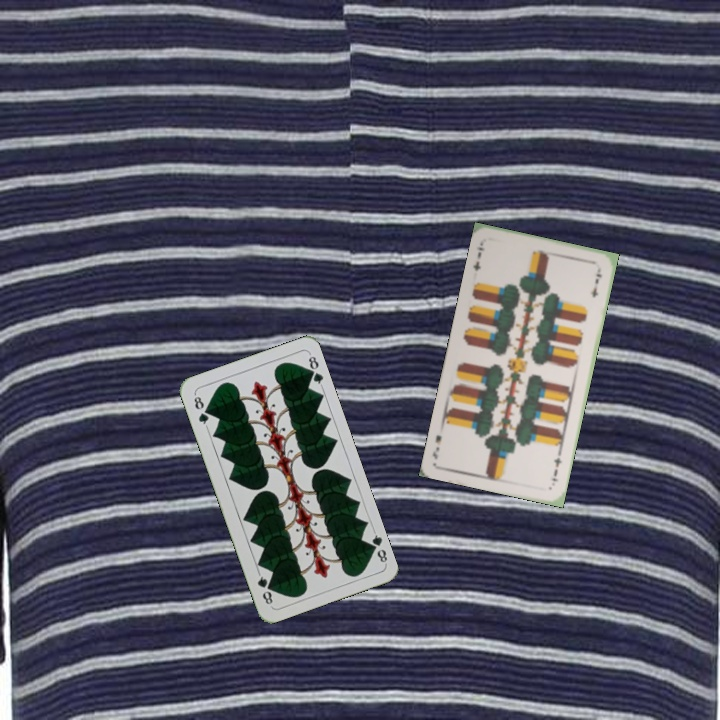E7: (547, 449, 564, 484), (469, 243, 487, 274)
G8: (364, 527, 390, 566), (190, 390, 211, 430)
